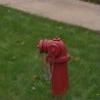Hydrant: (30, 25, 74, 94)
